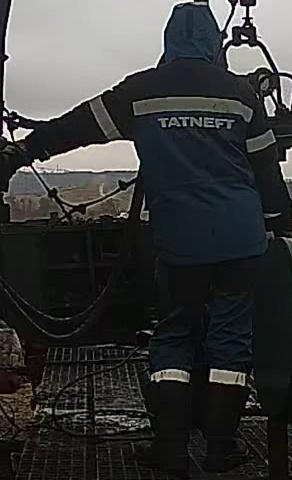gloves: (0, 135, 32, 192)
vest: (87, 59, 288, 265)
